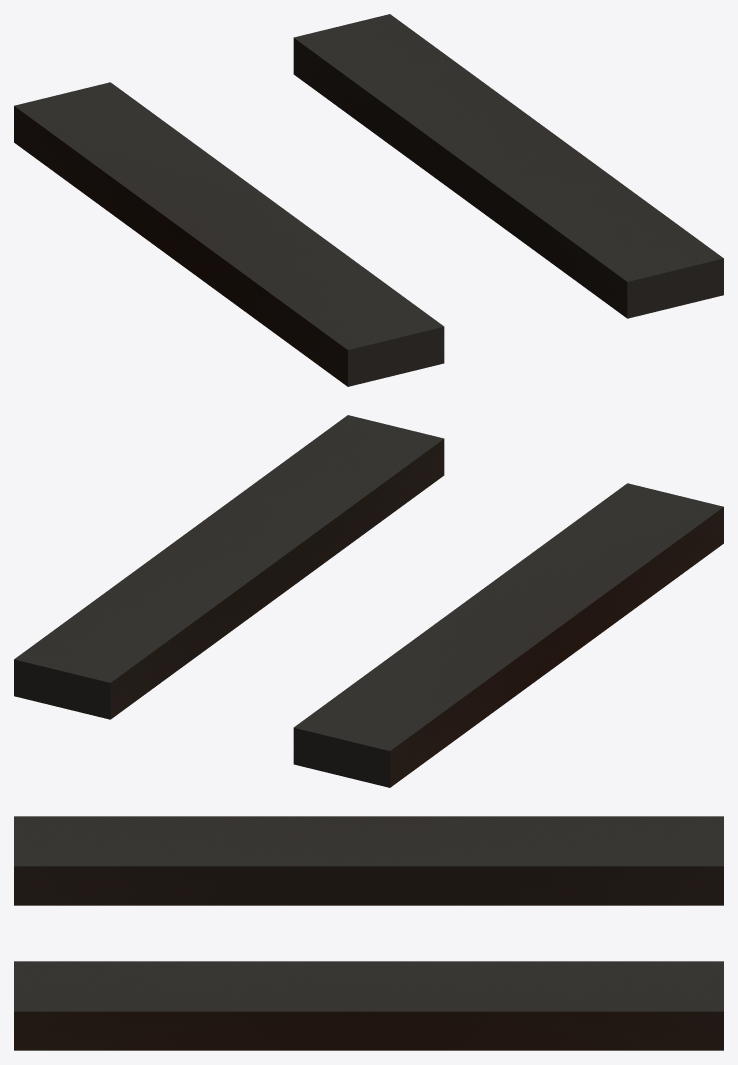
File: forklift.serva.3526.obj
The picture shows the model from 3 angles, top to bottom: view 1: azimuth 30°, elevation 25°; view 2: azimuth 150°, elevation 25°; view 3: azimuth 270°, elevation 25°; orthographic projection. The views are drawn at different scales.
Visible parts, largest first — view 1: Box15; view 2: Box15; view 3: Box15.
Part boxes in pixels (x1=…): Box15: x1=14, y1=14, x2=723, y2=386; Box15: x1=14, y1=415, x2=723, y2=787; Box15: x1=14, y1=816, x2=723, y2=1050.
Bounding box in the file's own units: 76.91 × 7.19 × 118.
